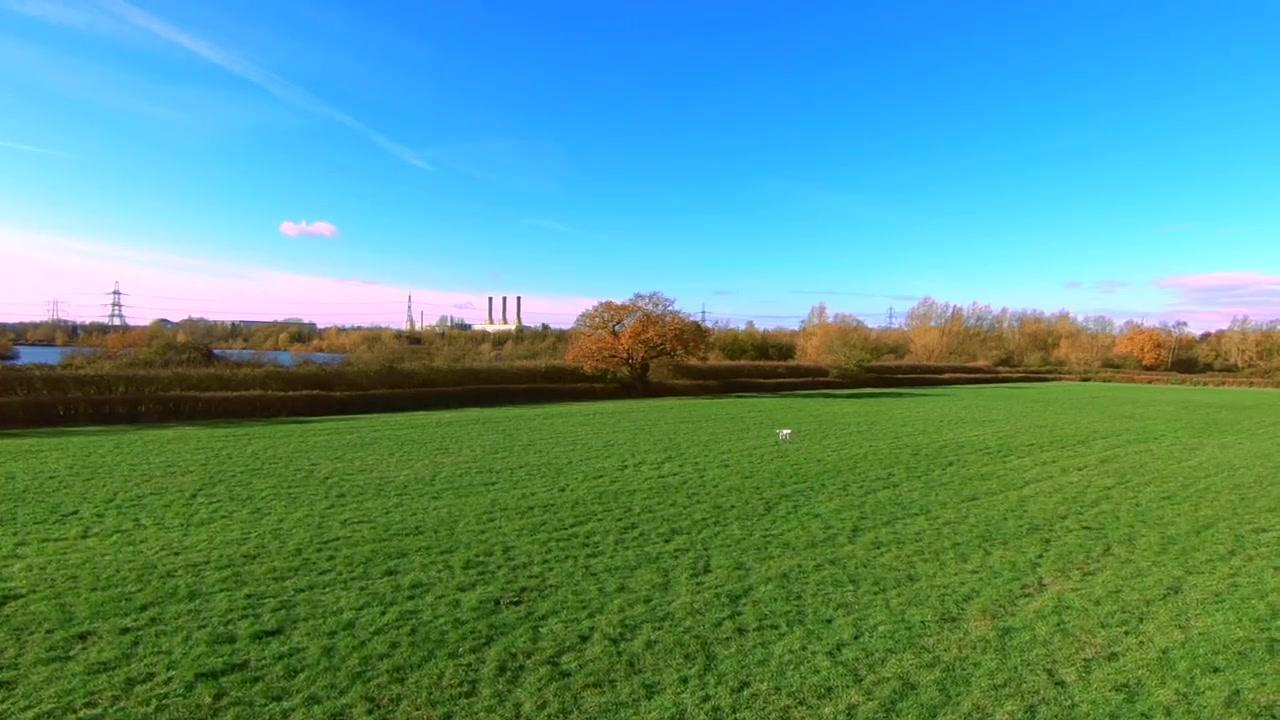UAV: (777, 430, 794, 442)
